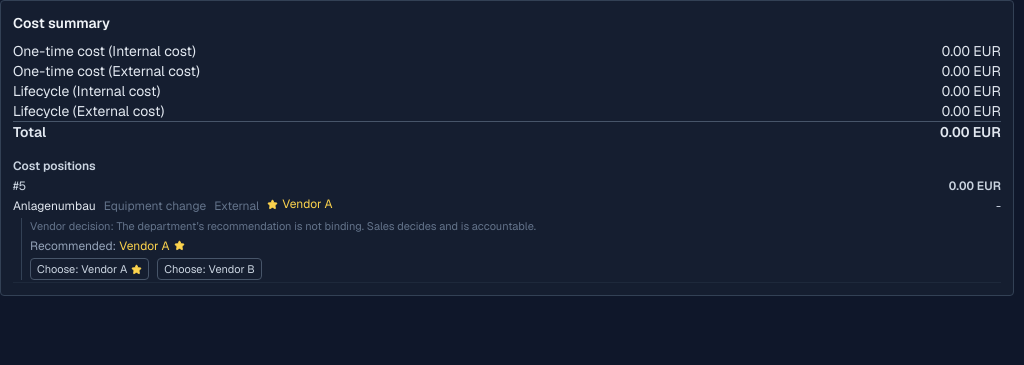
Test: SummationView vendor decision › holds the request until a reason for going against the recommendation exists
Later steps or results of the test are not shown.
Click the button with test id "vendor-choose-92" at coordinates (210, 268), box left=157, top=258, right=262, bottom=280
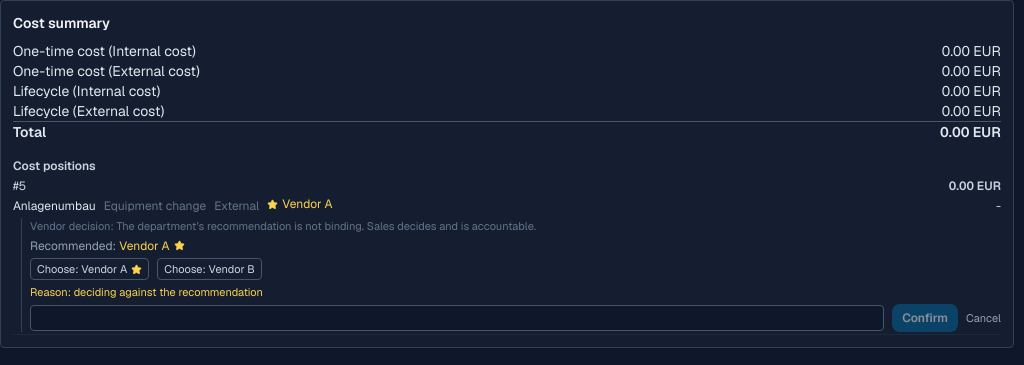
Expected: the element with test id "vendor-reason-3" shows "Reason: deciding against the recommendation", left=30, top=284, right=263, bottom=298
Expected: the button with test id "vendor-reason-confirm-3" is disabled, left=892, top=304, right=958, bottom=332
